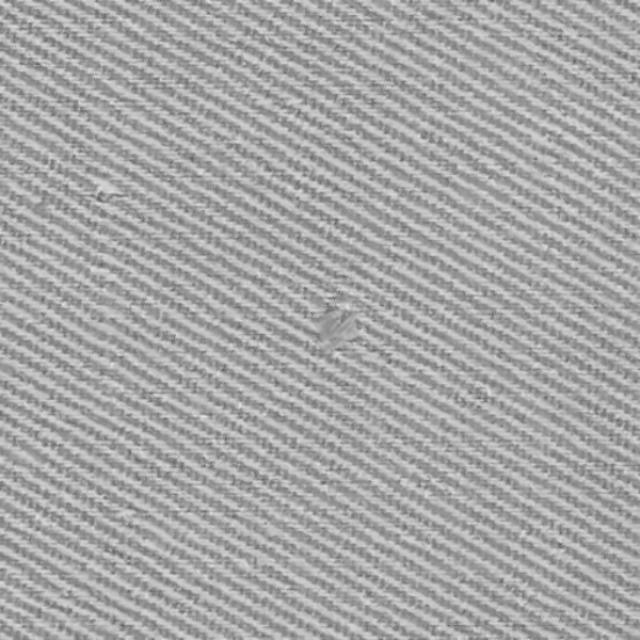seam: (262, 266, 434, 387)
